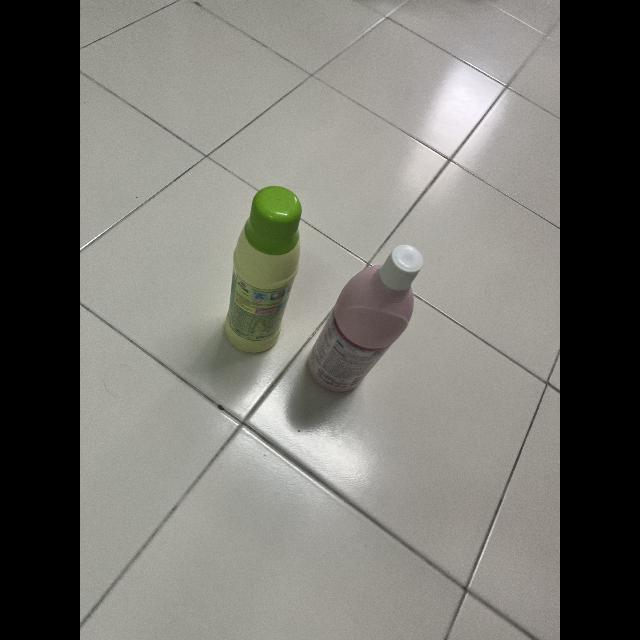chemical_plastic_bottle: (300, 242, 424, 396), (217, 183, 305, 359)
